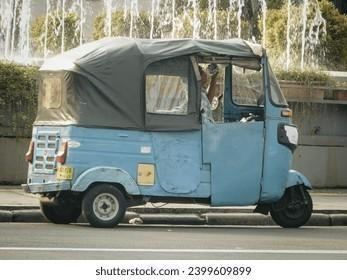keke: (20, 34, 315, 234)
